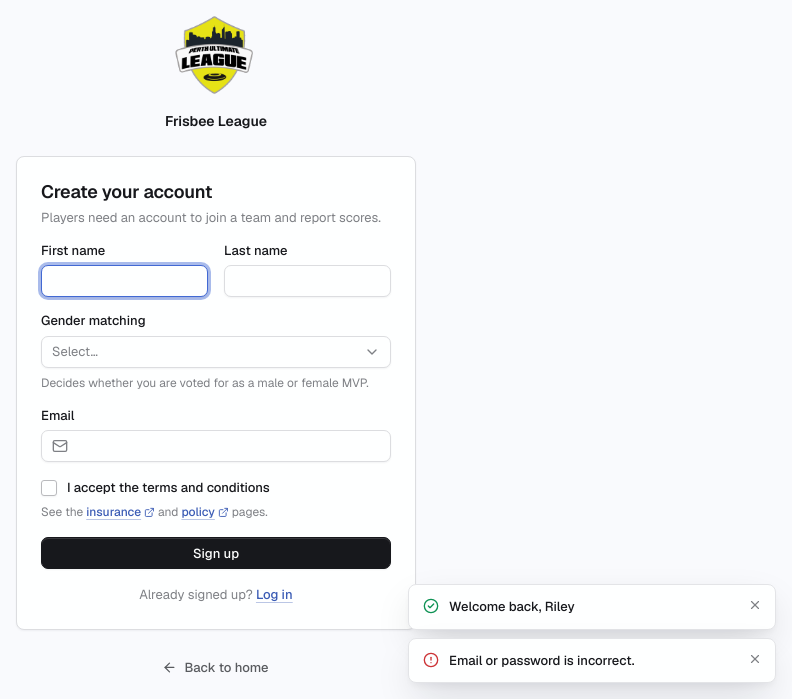
Test: AuthScreen sign up step › blocks submit when {"terms":false}
Type "Jo" into the field labelled "First name" at (124, 281), box [52,266,197,296]
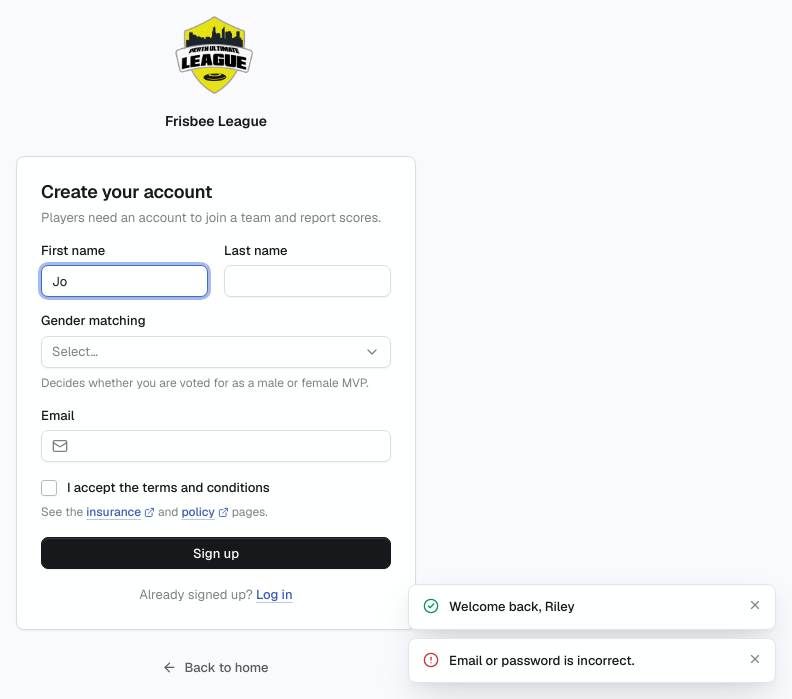
Type "Bloggs" into the field labelled "Last name" at (308, 281), box [235,266,380,296]
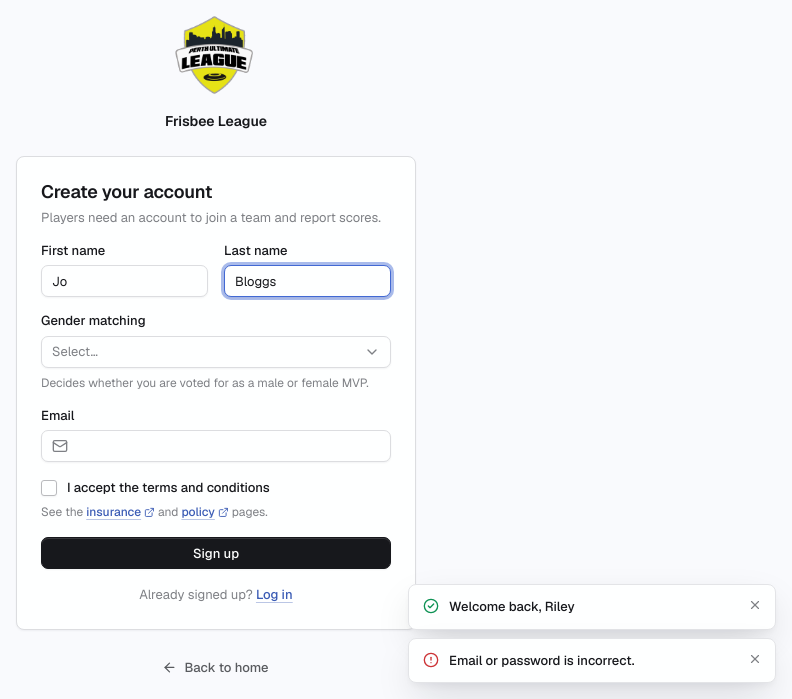
Click the dropdown named "Gender matching" at (75, 351), box [41,336,391,368]
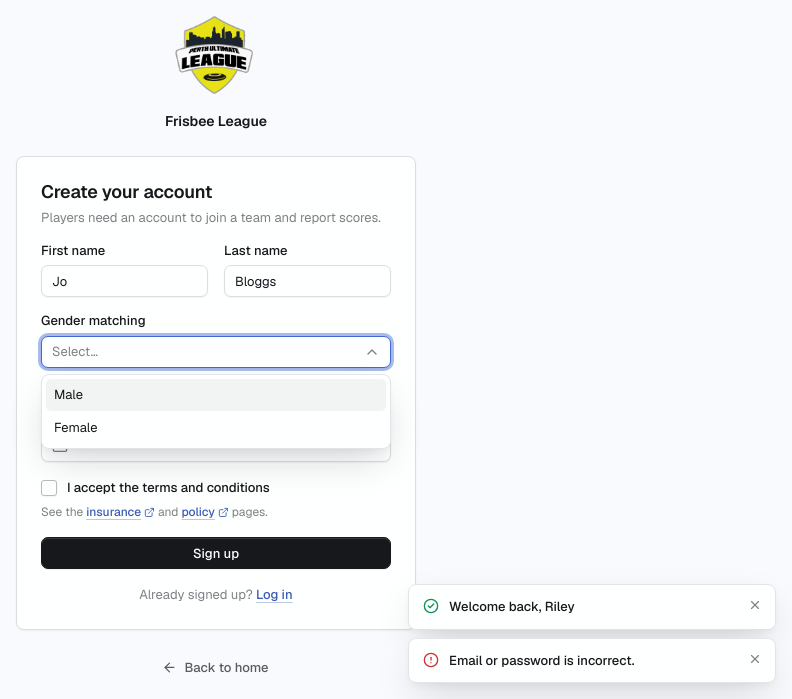
Click the option "Female" at (76, 428), box [54,419,97,436]
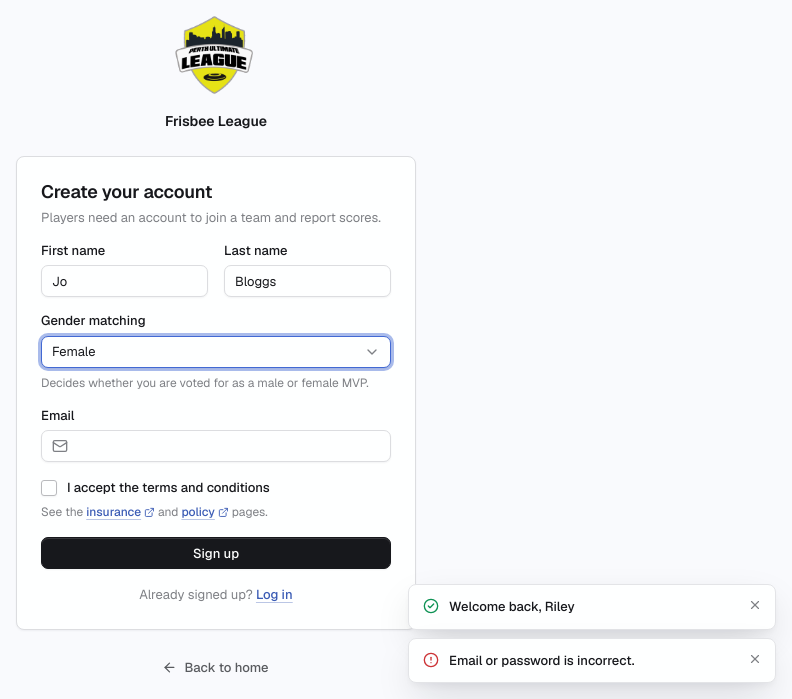
Type "jo@example.com" into the field labelled "Email" at (228, 446), box [76,431,380,461]
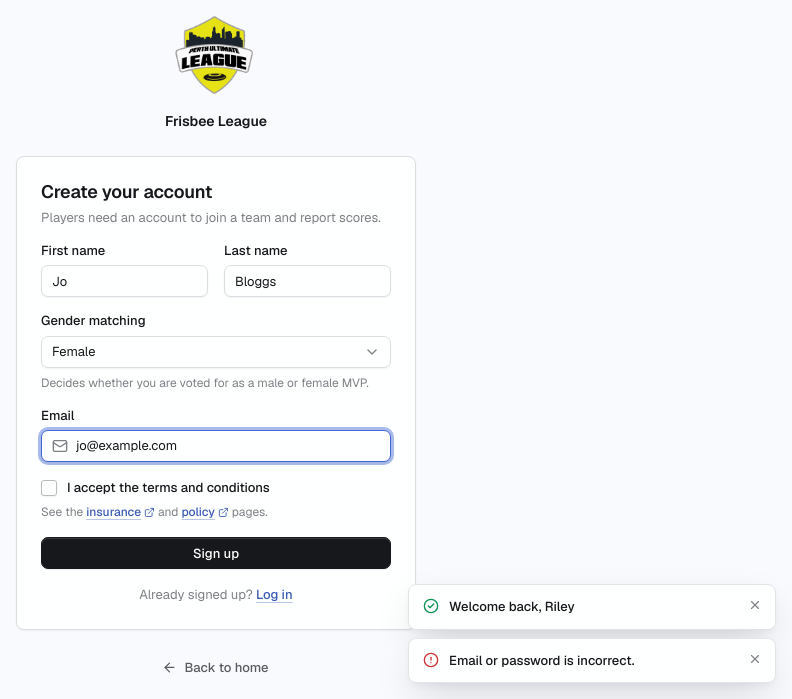
Click the button "Sign up" at (216, 553), box [41,537,391,569]
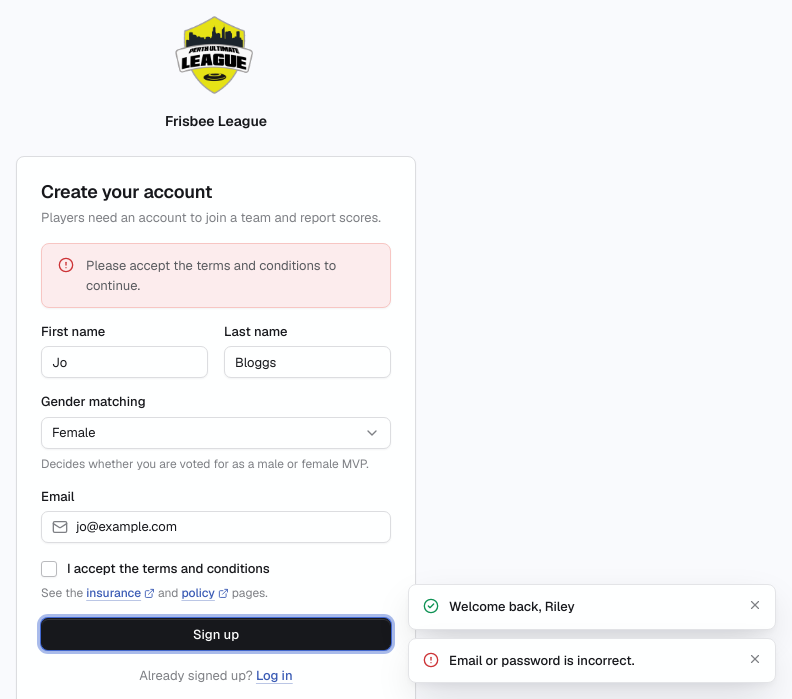
Check: the text "Please accept the terms and conditions to continue." is shown, box [86,256,374,295]
